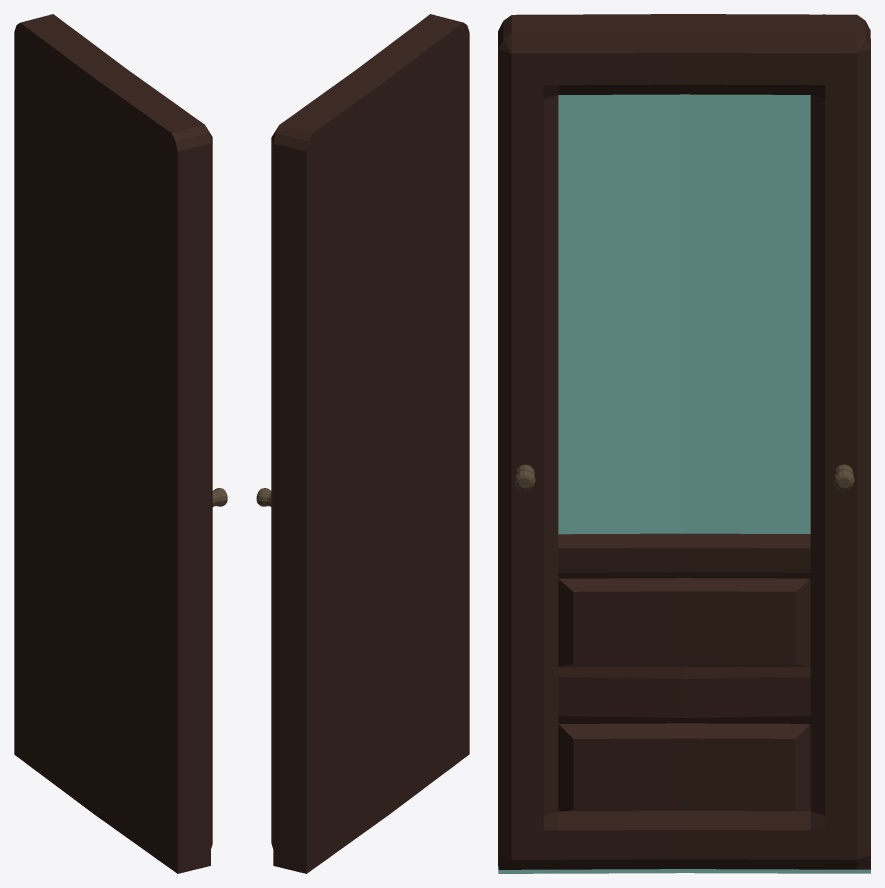
Rendered from dver.fbx.
The picture shows the model from 3 angles, left to right: view 1: azimuth 30°, elevation 25°; view 2: azimuth 150°, elevation 25°; view 3: azimuth 270°, elevation 25°; orthographic projection. The views are drawn at different scales.
Parts seen in each view (by area): view 1: dver; view 2: dver; view 3: dver.
Boxes of the visible parts, left/top/right/bottom form: dver: left=14, top=14, right=227, bottom=873; dver: left=256, top=14, right=469, bottom=873; dver: left=498, top=14, right=870, bottom=873.
Size of the model in its own units: 4.77 by 55.21 by 22.17.
